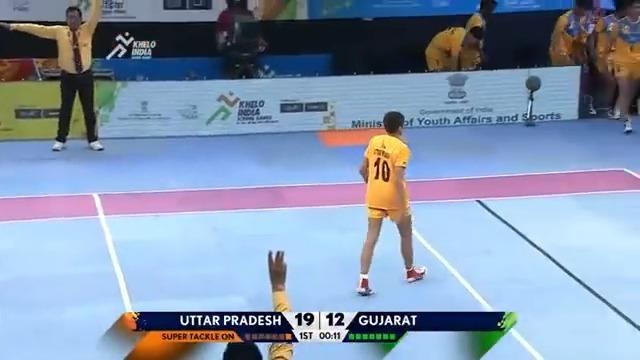Player: (8, 0, 105, 151), (355, 110, 427, 296)
referee: (214, 0, 268, 78), (458, 0, 498, 70), (424, 24, 466, 71)
